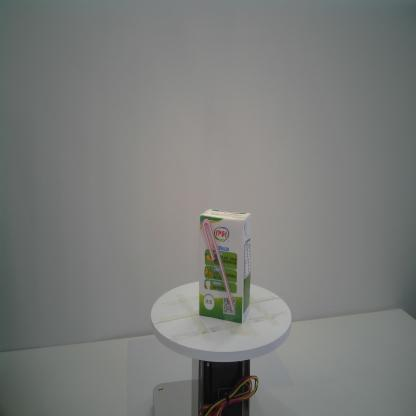Milk: (199, 209, 252, 324)
